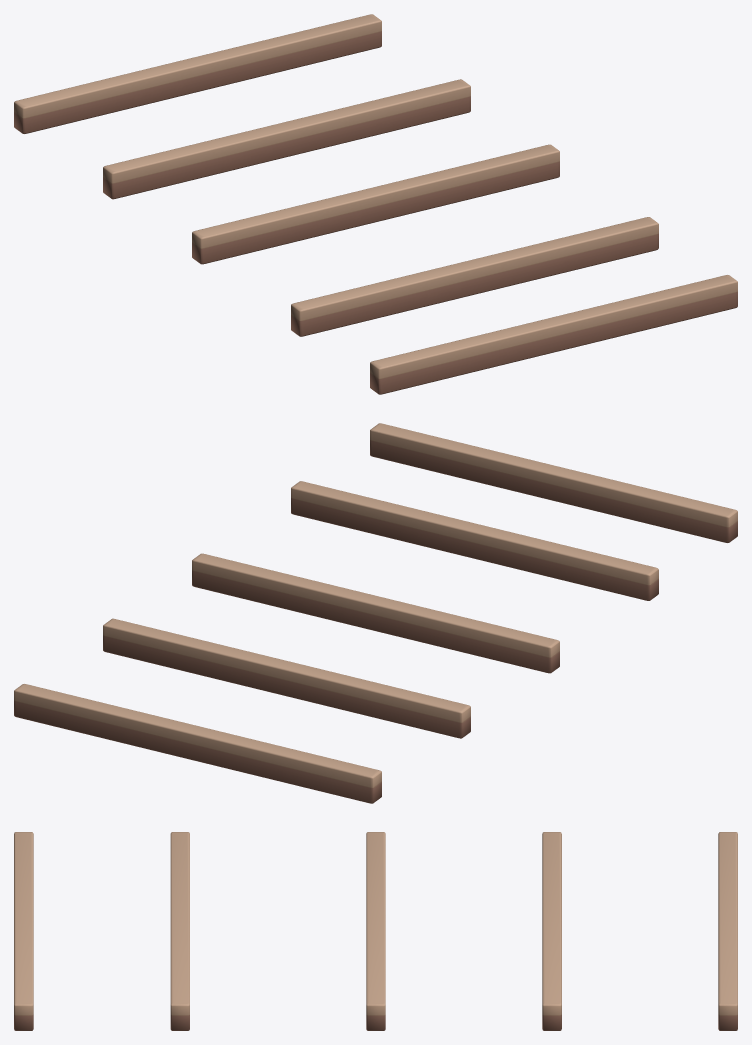
The model's file is Props.fbx.
3 views of the same model, one above another, from view 1: azimuth 30°, elevation 25°; view 2: azimuth 150°, elevation 25°; view 3: azimuth 270°, elevation 25° (orthographic).
Visible parts, largest first — view 1: Box20-3_1 (4), Box20-3_1 (2), Box20-3_1 (3), Box20-3_1 (5), Box20-3_1 (6); view 2: Box20-3_1 (4), Box20-3_1 (2), Box20-3_1 (3), Box20-3_1 (5), Box20-3_1 (6); view 3: Box20-3_1 (3), Box20-3_1 (4), Box20-3_1 (5), Box20-3_1 (6), Box20-3_1 (2).
Boxes of the visible parts, <box> form: Box20-3_1 (4): <box>103,79,470,199</box>; Box20-3_1 (2): <box>192,144,559,264</box>; Box20-3_1 (3): <box>291,217,658,336</box>; Box20-3_1 (5): <box>14,14,381,133</box>; Box20-3_1 (6): <box>370,275,737,394</box>; Box20-3_1 (4): <box>103,618,470,738</box>; Box20-3_1 (2): <box>192,553,559,673</box>; Box20-3_1 (3): <box>291,481,658,600</box>; Box20-3_1 (5): <box>14,684,381,803</box>; Box20-3_1 (6): <box>370,423,737,542</box>; Box20-3_1 (3): <box>170,832,189,1030</box>; Box20-3_1 (4): <box>542,832,561,1030</box>; Box20-3_1 (5): <box>718,832,737,1030</box>; Box20-3_1 (6): <box>14,832,33,1030</box>; Box20-3_1 (2): <box>366,832,385,1030</box>.
Bounding box in the file's own units: 21 × 1.5 × 37.
